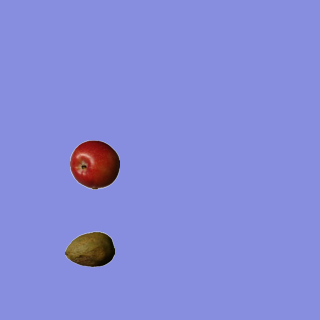Apple Braeburn: (69, 139, 119, 189)
Papaya: (64, 224, 114, 274)
